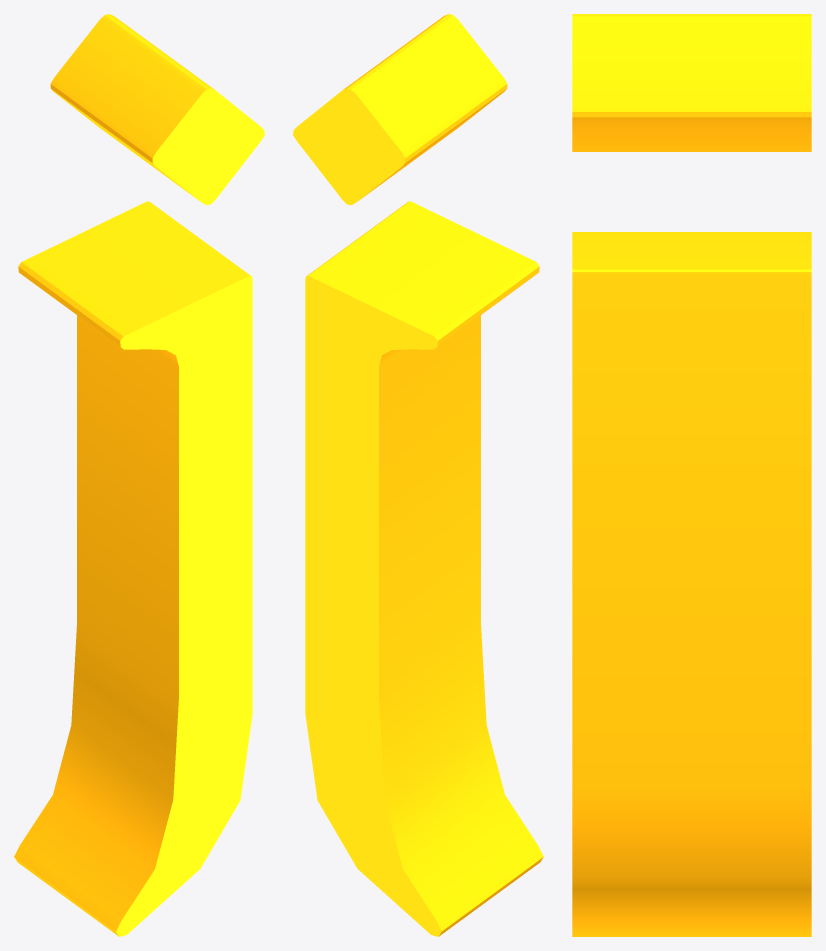
3 renders of one model, left to right at view 1: azimuth 30°, elevation 25°; view 2: azimuth 150°, elevation 25°; view 3: azimuth 270°, elevation 25°, orthographic. The views are drawn at different scales.
Parts seen in each view (by area): view 1: j_Soul_Yellow; view 2: j_Soul_Yellow; view 3: j_Soul_Yellow.
Part boxes in pixels (x1=…): j_Soul_Yellow: x1=14, y1=14, x2=264, y2=936; j_Soul_Yellow: x1=293, y1=14, x2=543, y2=936; j_Soul_Yellow: x1=572, y1=14, x2=811, y2=936.
Size of what is drawn, in the model's own units: 0.0379 by 0.2011 by 0.045.
2 materials, 2 textured.
